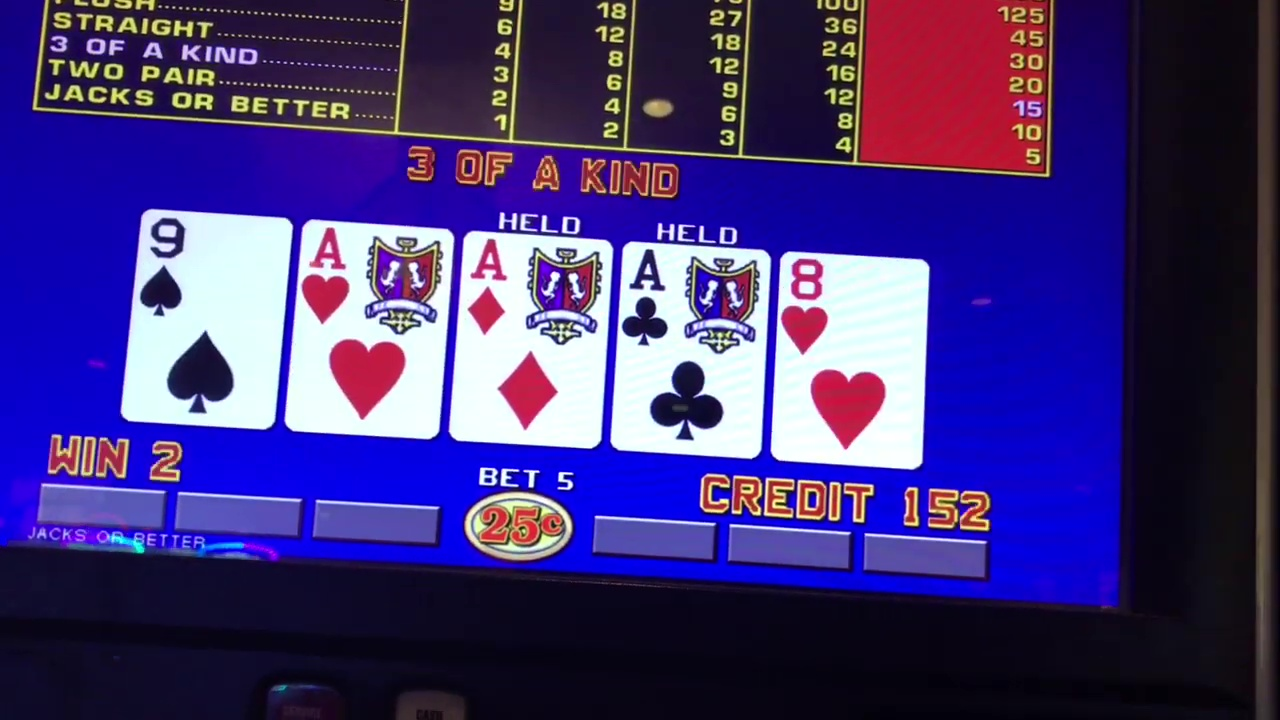CA: (629, 252, 776, 362)
DA: (463, 238, 596, 351)
H8: (781, 258, 917, 370)
HA: (304, 226, 440, 338)
S9: (143, 217, 286, 327)
